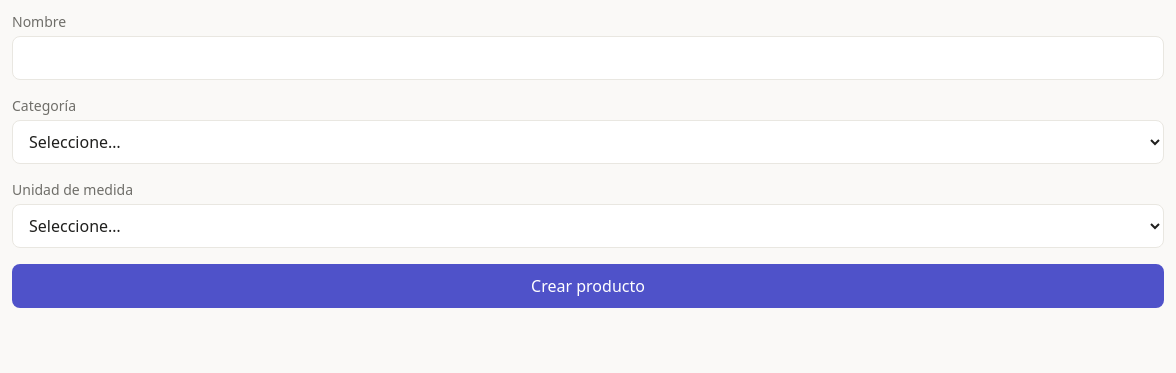
Scenario: ProductForm › valida la categoría y la unidad requeridas y no envía
Step 1. Type "Tomate" into the field labelled "Nombre" → (588,58), box [12,36,1164,80]
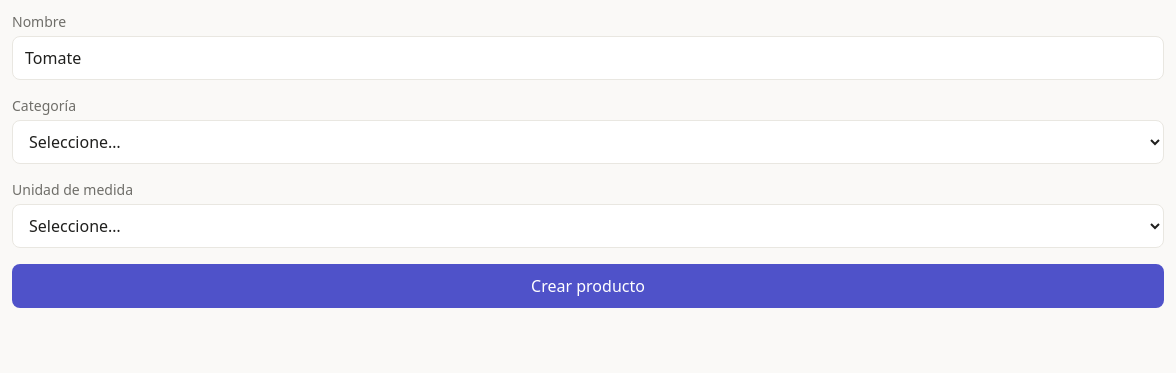
Step 2. Click the button "Crear producto" → (588,286), box [12,264,1164,308]
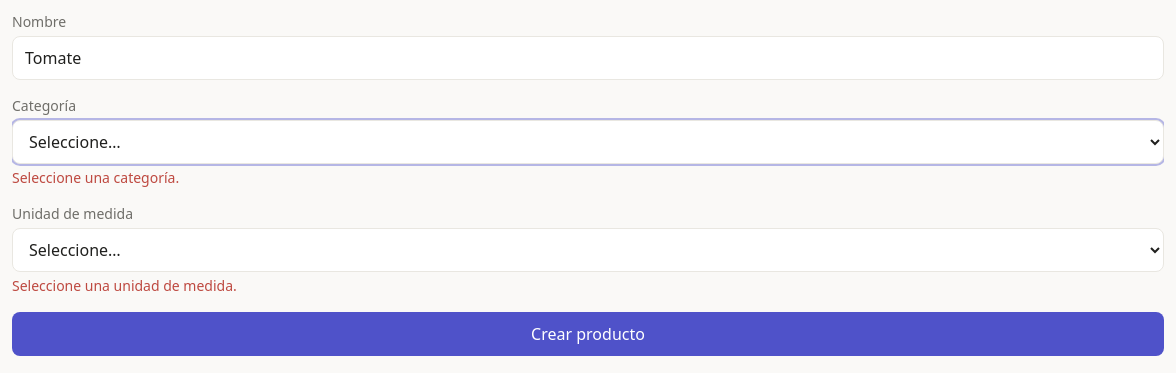
Check: the text "Seleccione una categoría." is shown, box [12,168,179,187]
Check: the text "Seleccione una unidad de medida." is shown, box [12,276,237,295]
